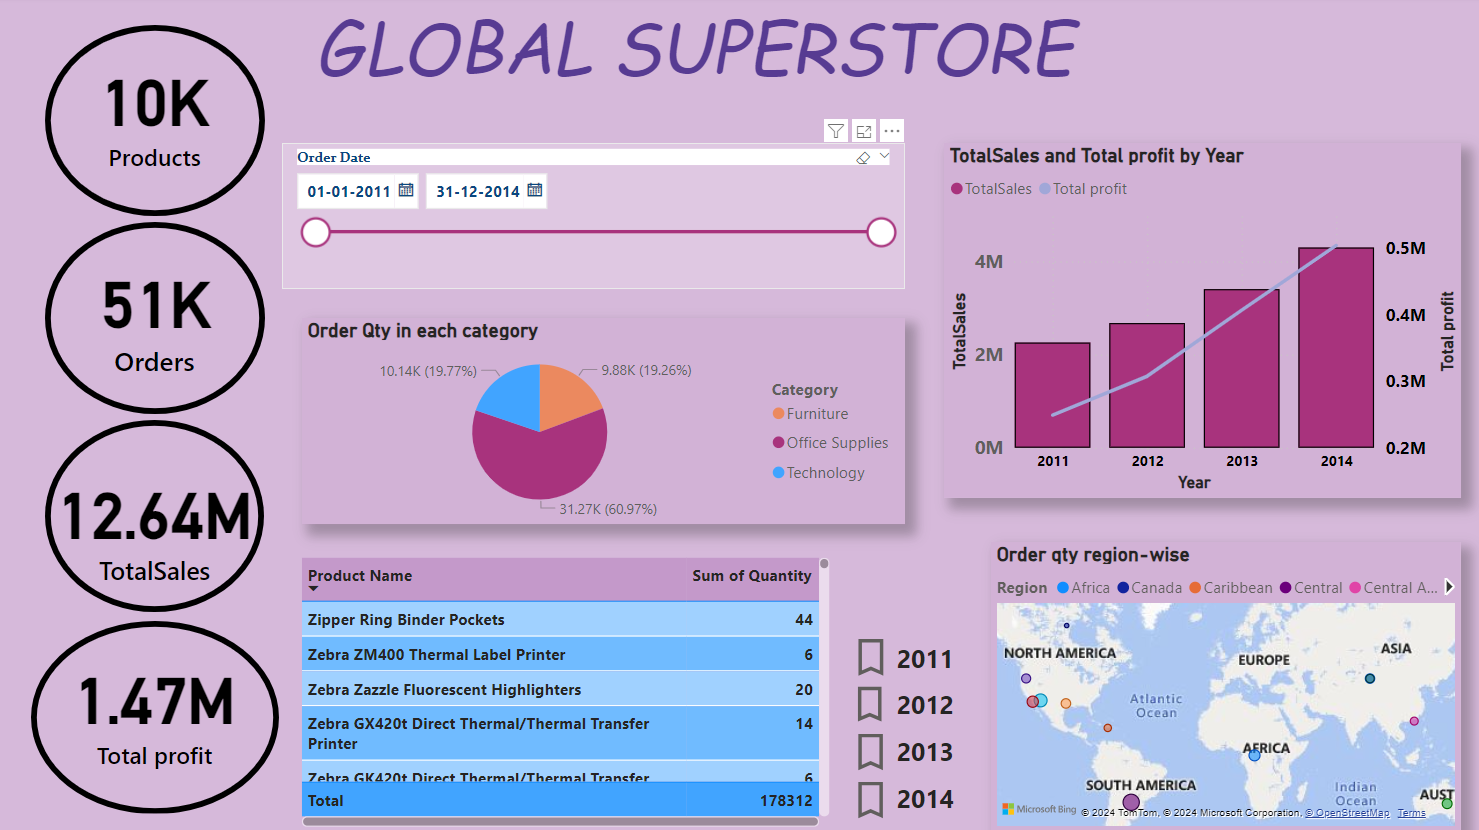

Layout of this report page (visuals, bound fields, positions):
{"tool":"powerbi","page":{"name":"Page 1","canvas":[1280,720],"ordinal":0},"visuals":[{"type":"card","fields":{"Values":["Orders.No. of products"]},"box":[1068.5,0,211.1,182.1],"z":0},{"type":"card","fields":{"Values":["Orders.Total no.of orders"]},"box":[1068.5,173.7,211.1,182.1],"z":1000},{"type":"card","fields":{"Values":["Orders.Total profit"]},"box":[1068.5,537.9,211.1,182.1],"z":2000},{"type":"card","fields":{"Values":["Orders.TotalSales"]},"box":[1068.5,355.8,211.1,182.1],"z":3000},{"type":"pieChart","title":"Order Qty in each category","fields":{"Category":["Products Sold.Category"],"Y":["CountNonNull(Orders.Category)"]},"box":[39.8,236.4,398,154.4],"z":4000},{"type":"lineStackedColumnComboChart","fields":{"Category":["Orders.Order Date.Variation.Date Hierarchy.Year","Orders.Order Date.Variation.Date Hierarchy.Quarter","Orders.Order Date.Variation.Date Hierarchy.Month","Orders.Order Date.Variation.Date Hierarchy.Day"],"Y":["Orders.TotalSales"],"Y2":["Orders.Total profit"]},"box":[39.8,419.7,422.1,271.4],"z":5000},{"type":"slicer","fields":{"Values":["Orders.Order Date"]},"box":[33.8,100.1,433,107.3],"z":6000},{"type":"map","title":"Order qty region-wise","fields":{"Category":["People.Region"],"Series":["Orders.Region"],"Size":["CountNonNull(Orders.Order ID)"]},"box":[499.3,426.9,382.3,244.8],"z":7000},{"type":"actionButton","box":[904.5,527.3,100,40.9],"z":8000},{"type":"actionButton","box":[904.5,650,100,40.9],"z":9000},{"type":"actionButton","box":[904.5,609.1,100,40.9],"z":10000},{"type":"actionButton","box":[904.5,568.2,100,39.4],"z":11000},{"type":"textbox","box":[943.1,650,72.2,40.3],"z":12000},{"type":"textbox","box":[943.1,609.7,72.2,40.3],"z":13000},{"type":"textbox","box":[943.1,529.2,72.2,40.3],"z":14000},{"type":"textbox","box":[943.1,569.4,72.2,40.3],"z":15000},{"type":"tableEx","fields":{"Values":["Orders.Product Name","Sum(Orders.Quantity)"]},"box":[500.5,148.3,465.5,241.2],"z":16000},{"type":"textbox","title":"GLOBAL SUPERSTORE","box":[300.3,0,680.2,118.2],"z":17000},{"type":"shape","box":[1079.4,16.9,189.3,165.2],"z":18000},{"type":"shape","box":[1081.8,182.1,189.3,165.2],"z":19000},{"type":"shape","box":[1080.6,364.2,189.3,165.2],"z":20000},{"type":"shape","box":[1066.2,546.1,214.1,166],"z":21000}]}

Visuals, with their boxes in screenshot pixels (x1, y1, x2, y2), scaled from the page's 1280x720 canvas onto the 1479x830 screenshot:
card - Orders.No. of products: <box>1235,0,1478,210</box>
card - Orders.Total no.of orders: <box>1235,200,1478,410</box>
card - Orders.Total profit: <box>1235,620,1478,829</box>
card - Orders.TotalSales: <box>1235,410,1478,620</box>
"Order Qty in each category" pieChart: <box>46,273,506,451</box>
lineStackedColumnComboChart - Orders.Order Date.Variation.Date Hierarchy.Year x Orders.Order Date.Variation.Date Hierarchy.Quarter: <box>46,484,534,797</box>
slicer - Orders.Order Date: <box>39,115,539,239</box>
"Order qty region-wise" map: <box>577,492,1019,774</box>
actionButton: <box>1045,608,1161,655</box>
actionButton: <box>1045,749,1161,796</box>
actionButton: <box>1045,702,1161,749</box>
actionButton: <box>1045,655,1161,700</box>
textbox: <box>1090,749,1173,796</box>
textbox: <box>1090,703,1173,749</box>
textbox: <box>1090,610,1173,657</box>
textbox: <box>1090,656,1173,703</box>
tableEx - Orders.Product Name x Sum(Orders.Quantity): <box>578,171,1116,449</box>
"GLOBAL SUPERSTORE" textbox: <box>347,0,1133,136</box>
shape: <box>1247,19,1466,210</box>
shape: <box>1250,210,1469,400</box>
shape: <box>1249,420,1467,610</box>
shape: <box>1232,630,1478,821</box>
